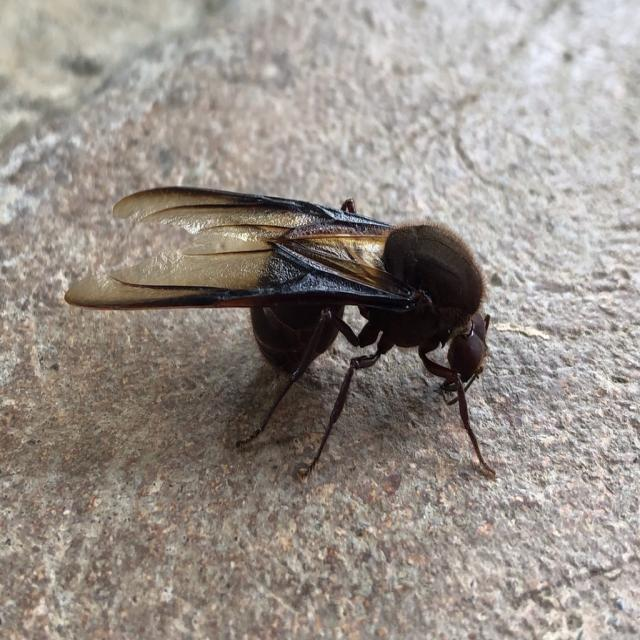Alive-Female-Alate: (64, 185, 496, 481)
